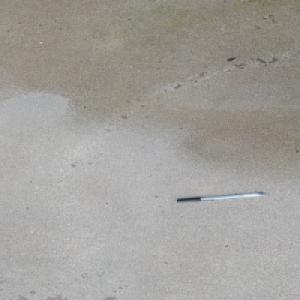Pen: (175, 192, 266, 203)
